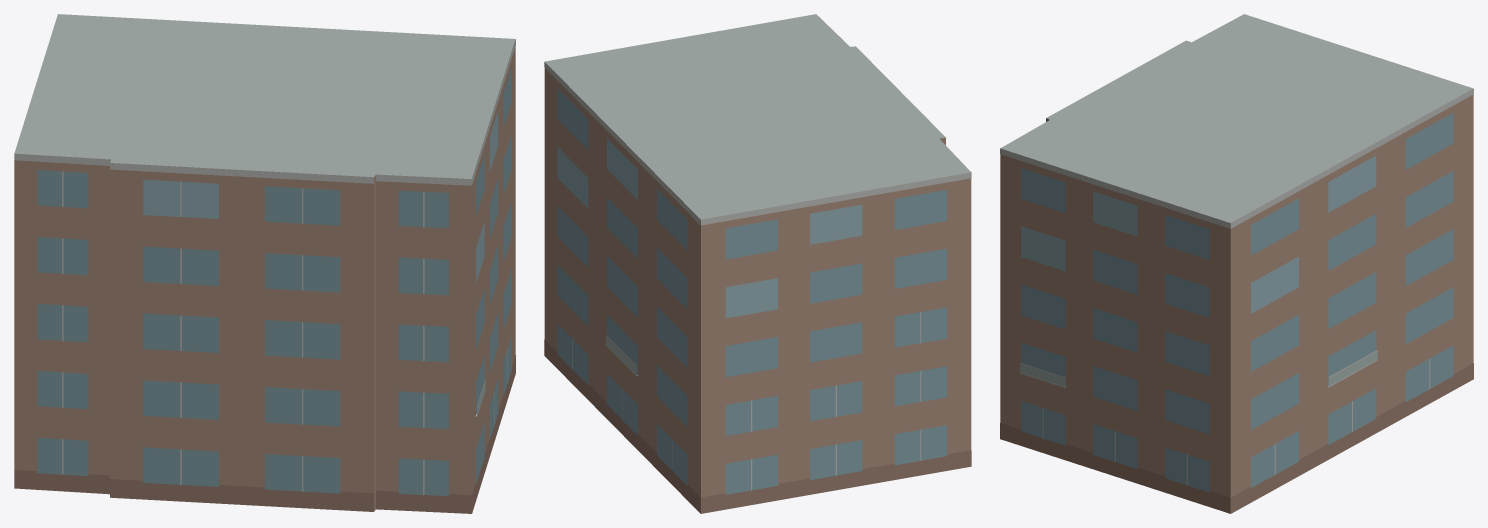
File: survey-upis-32656902.glb
3 views of the same model, side by side, from view 1: azimuth 30°, elevation 25°; view 2: azimuth 150°, elevation 25°; view 3: azimuth 270°, elevation 25° (orthographic). The views are drawn at different scales.
Parts seen in each view (by area): view 1: survey-upis-32656902.tmp; view 2: survey-upis-32656902.tmp; view 3: survey-upis-32656902.tmp.
Part boxes in pixels (<box>): survey-upis-32656902.tmp: <box>14,14,515,513</box>; survey-upis-32656902.tmp: <box>544,14,971,513</box>; survey-upis-32656902.tmp: <box>1000,14,1473,513</box>.
Bounding box in the file's own units: 18.99 × 12.3 × 18.17.
